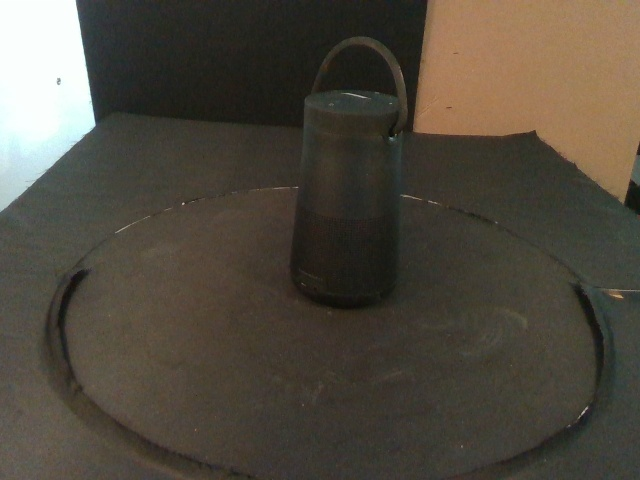speaker: (290, 90, 403, 309)
